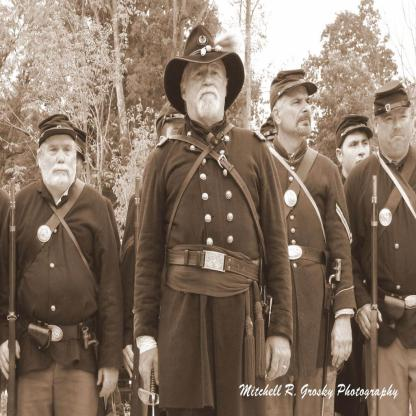face: (186, 63, 226, 121), (378, 103, 411, 159), (43, 138, 79, 185), (285, 88, 314, 137), (344, 131, 370, 175)
